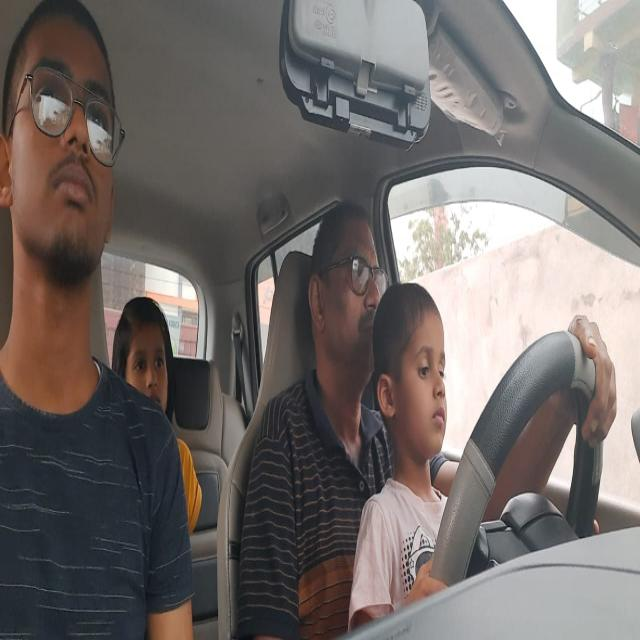child: (377, 279, 454, 455)
person: (0, 2, 130, 276), (310, 192, 394, 383), (111, 291, 177, 424)
